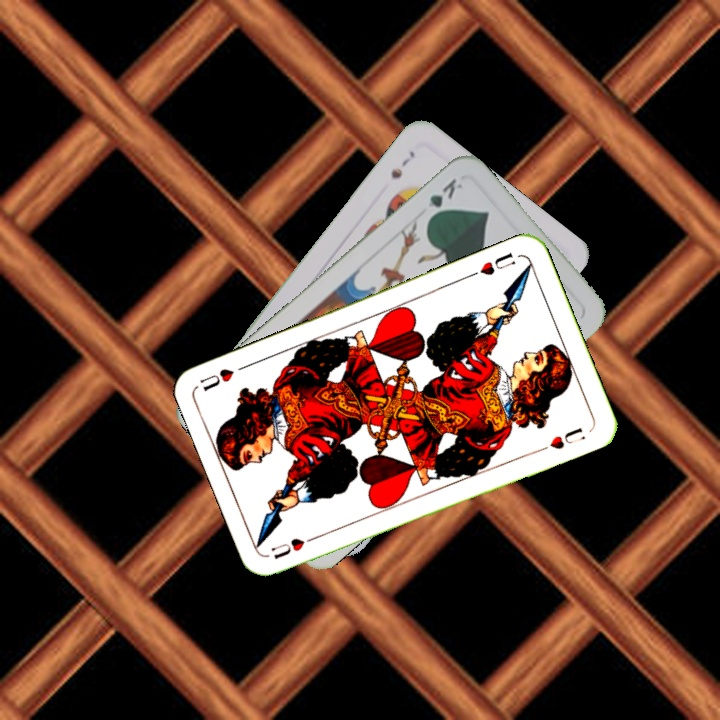GK: (422, 174, 465, 224)
HU: (267, 531, 323, 562), (465, 248, 518, 280)
S7: (386, 146, 418, 182)
